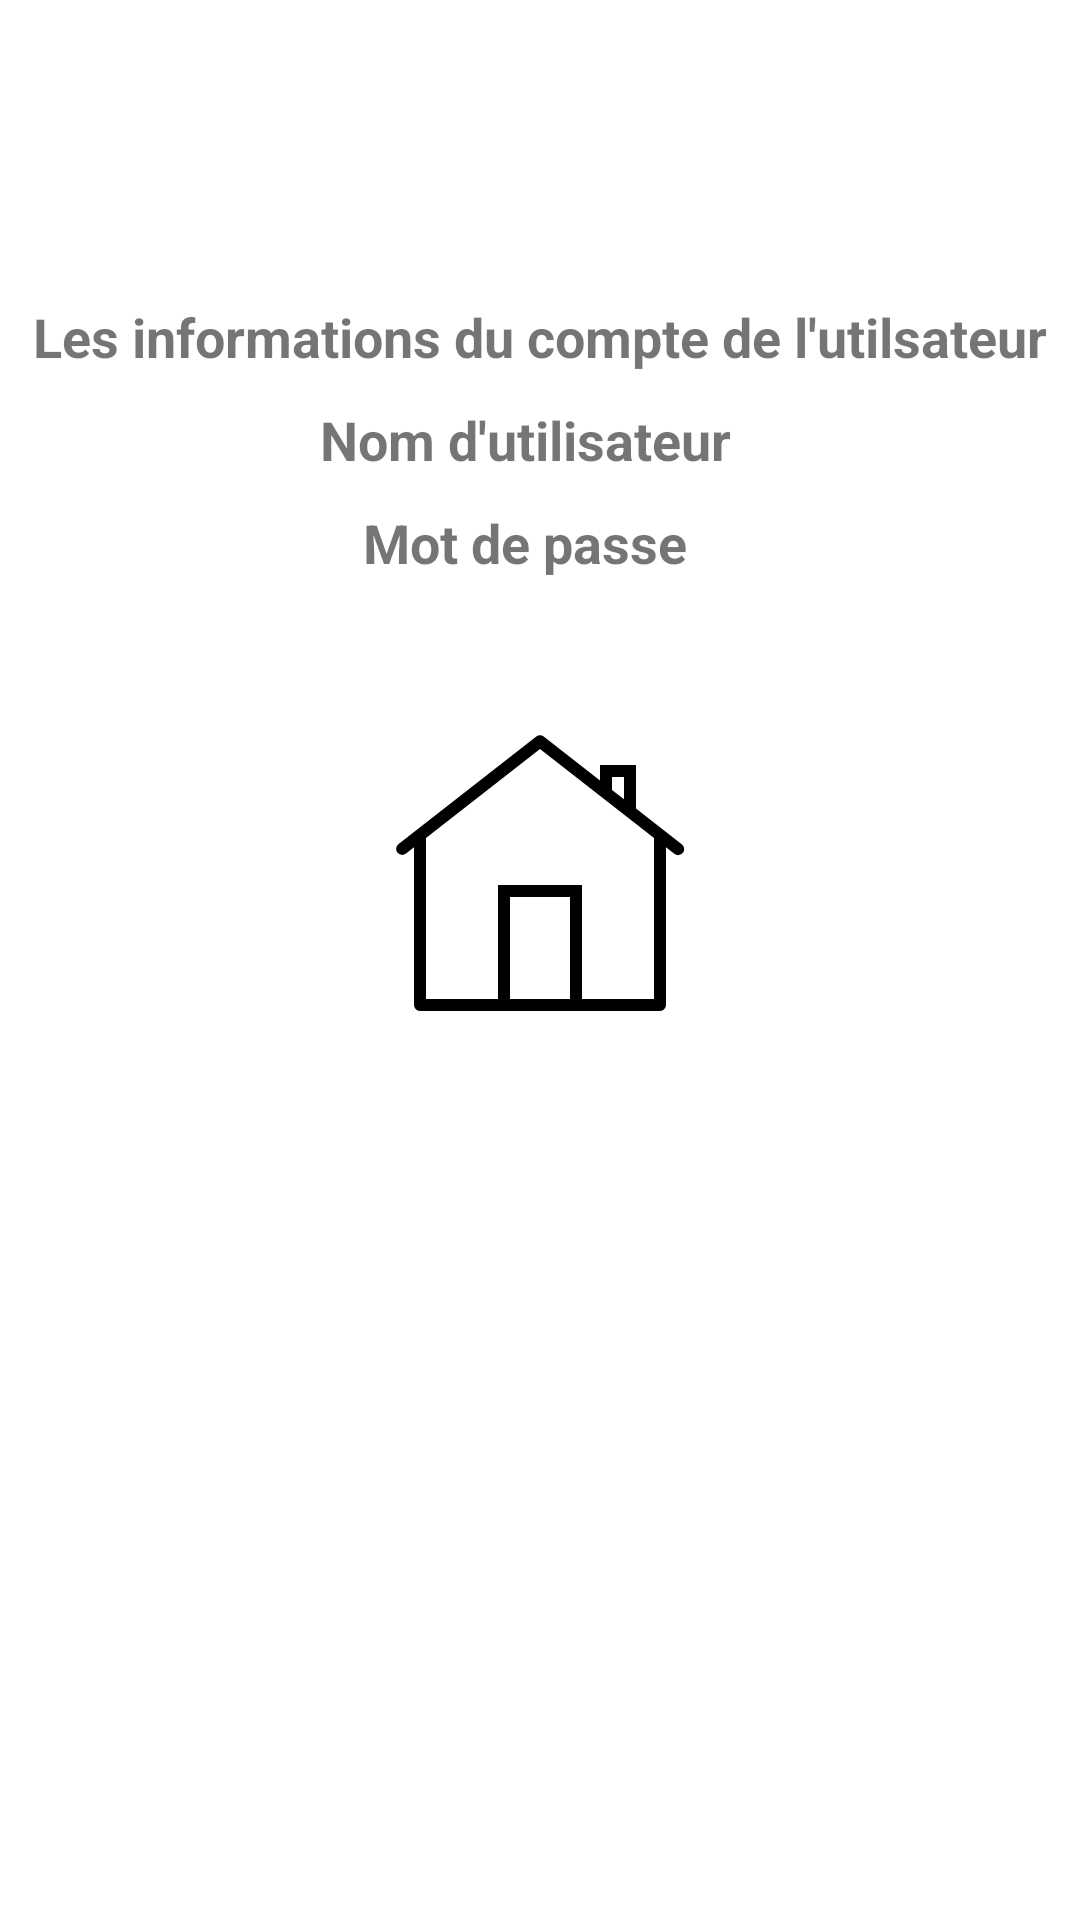

Screen size 1080w x 1920h. Icon name, then its center in pixels as (x=x, y=y):
home: (x=540, y=873)
